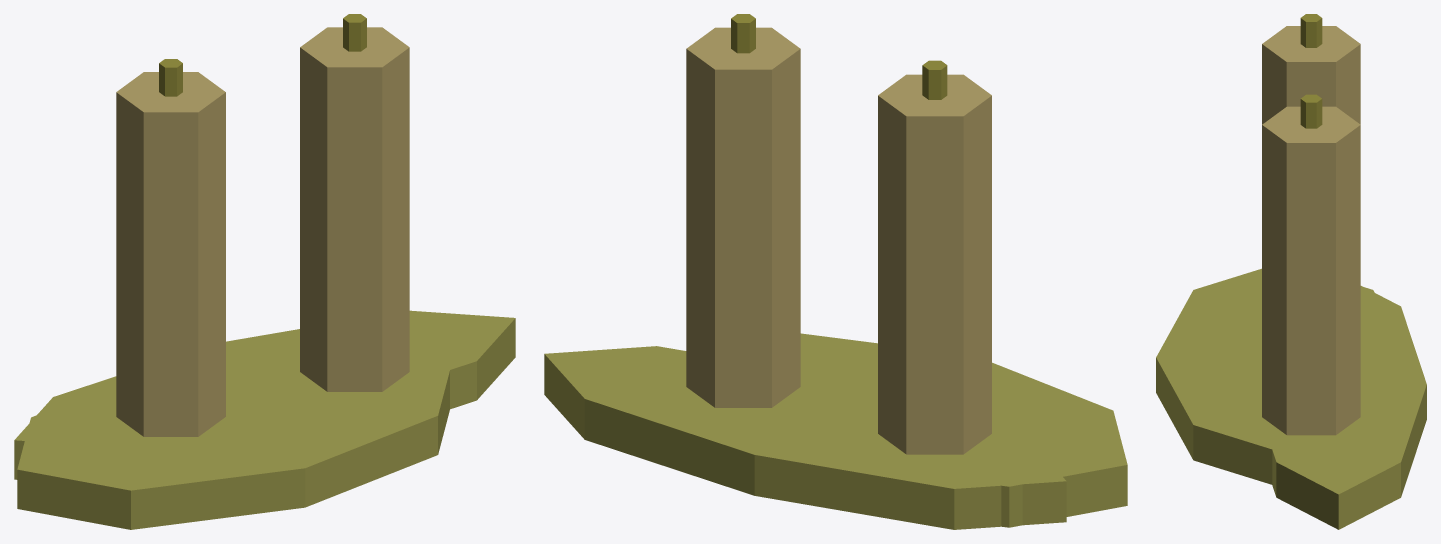
The model's file is CandleCollection2.fbx.
3 views of the same model, side by side, from view 1: azimuth 30°, elevation 25°; view 2: azimuth 150°, elevation 25°; view 3: azimuth 270°, elevation 25° (orthographic). The views are drawn at different scales.
Parts seen in each view (by area): view 1: double_candle; view 2: double_candle; view 3: double_candle.
Part boxes in pixels (x1,y1,x2,y2): double_candle: (14,14,515,529); double_candle: (544,14,1127,529); double_candle: (1156,14,1426,529).
Bounding box in the file's own units: 49.4 × 35.06 × 24.31.
